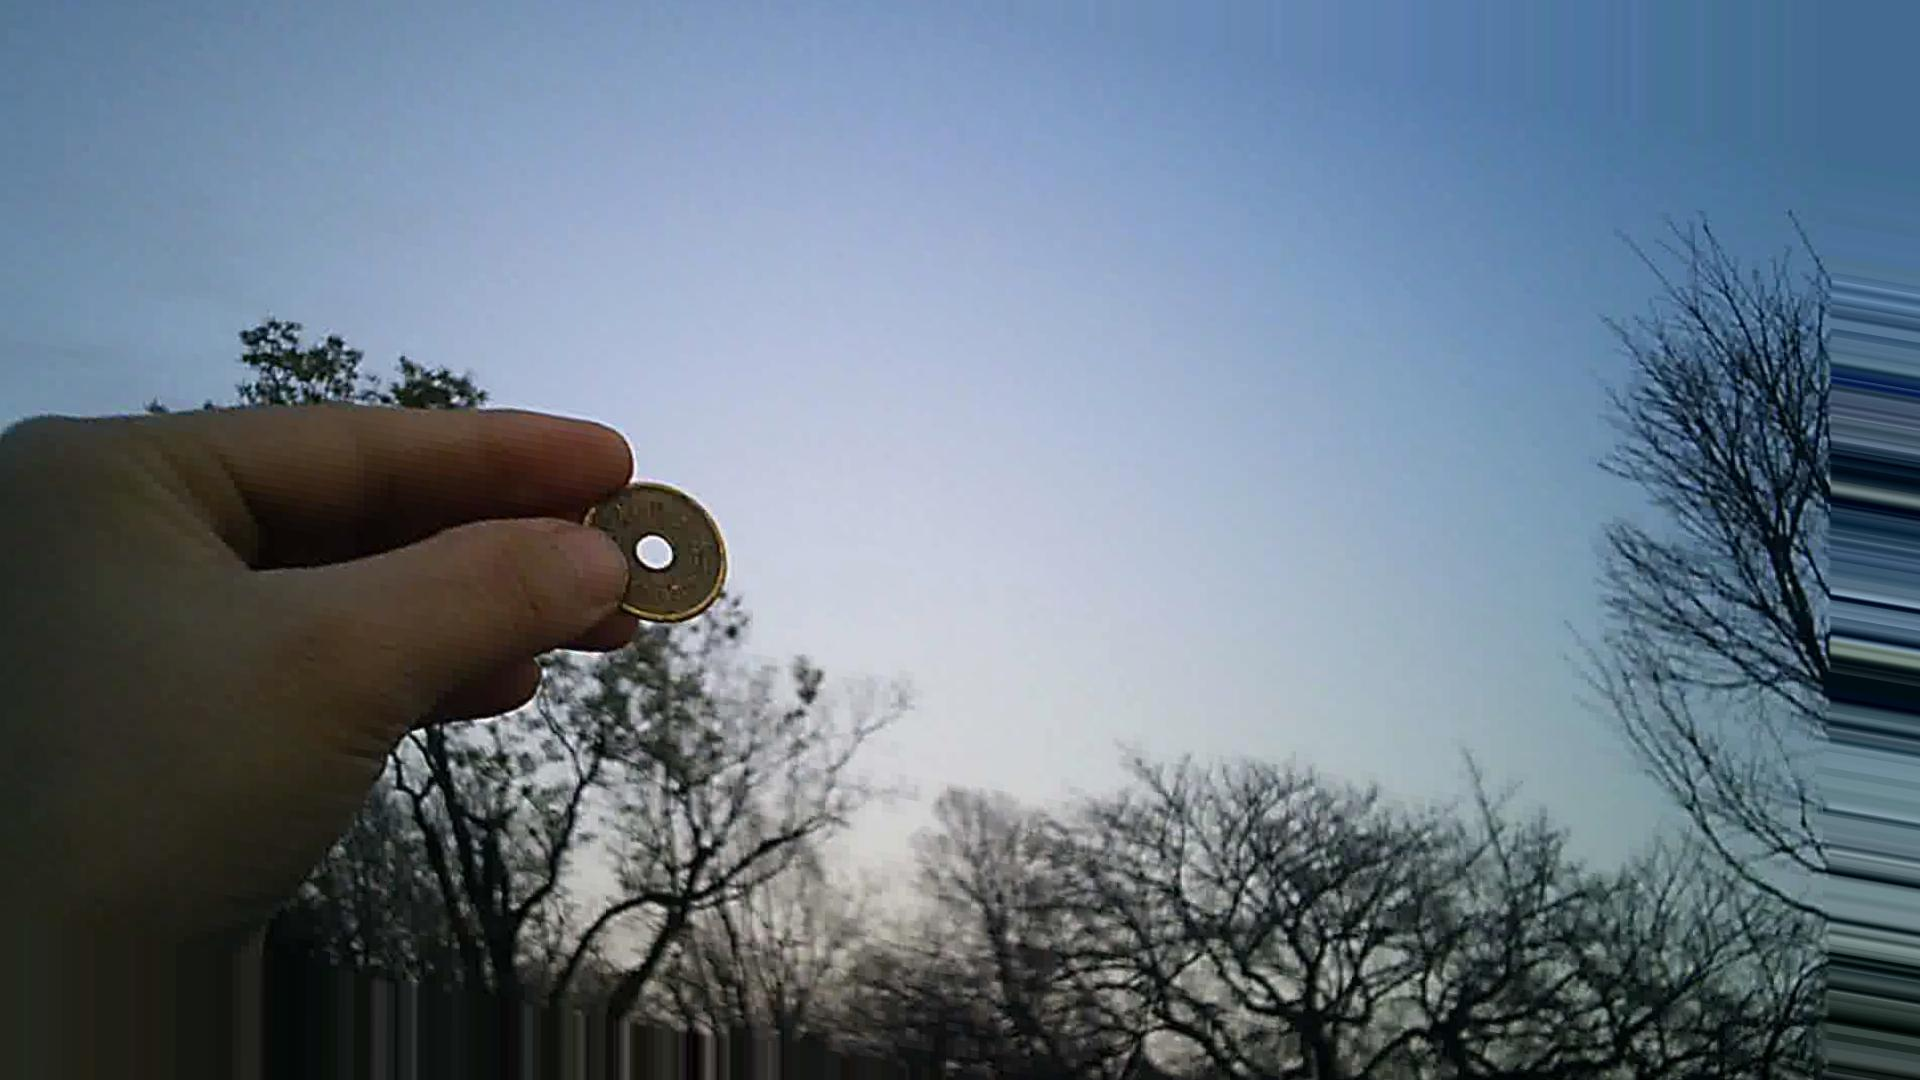5 Yen: (562, 469, 752, 637)
